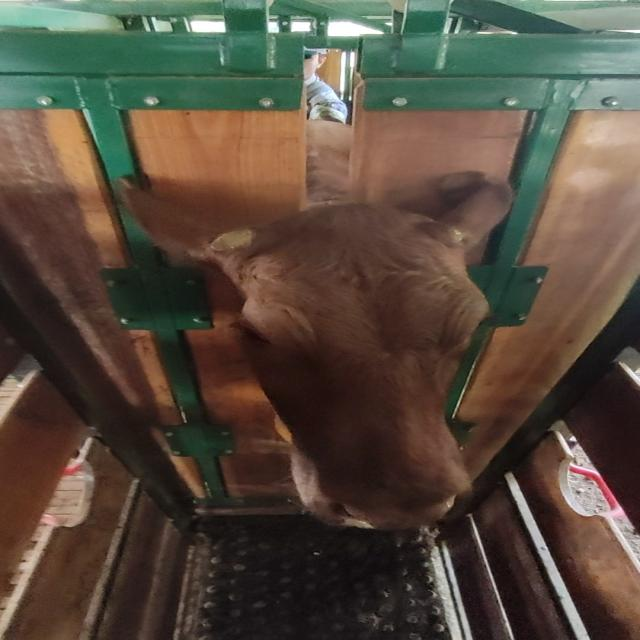cowFace: (235, 207, 490, 530)
